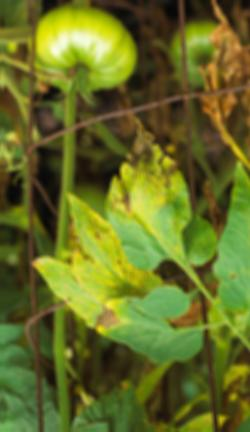Tomato Septoria leaf spot: (101, 124, 190, 267), (65, 188, 162, 315), (24, 245, 138, 343)
